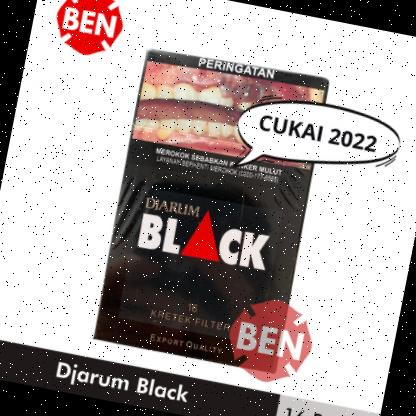bungkus rokok: (90, 38, 337, 376)
